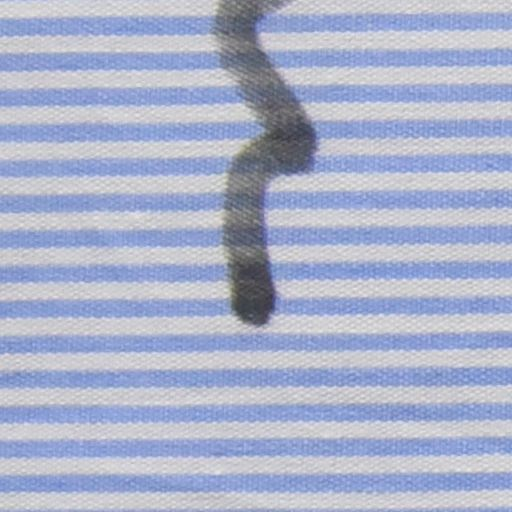defect: (220, 1, 310, 319)
